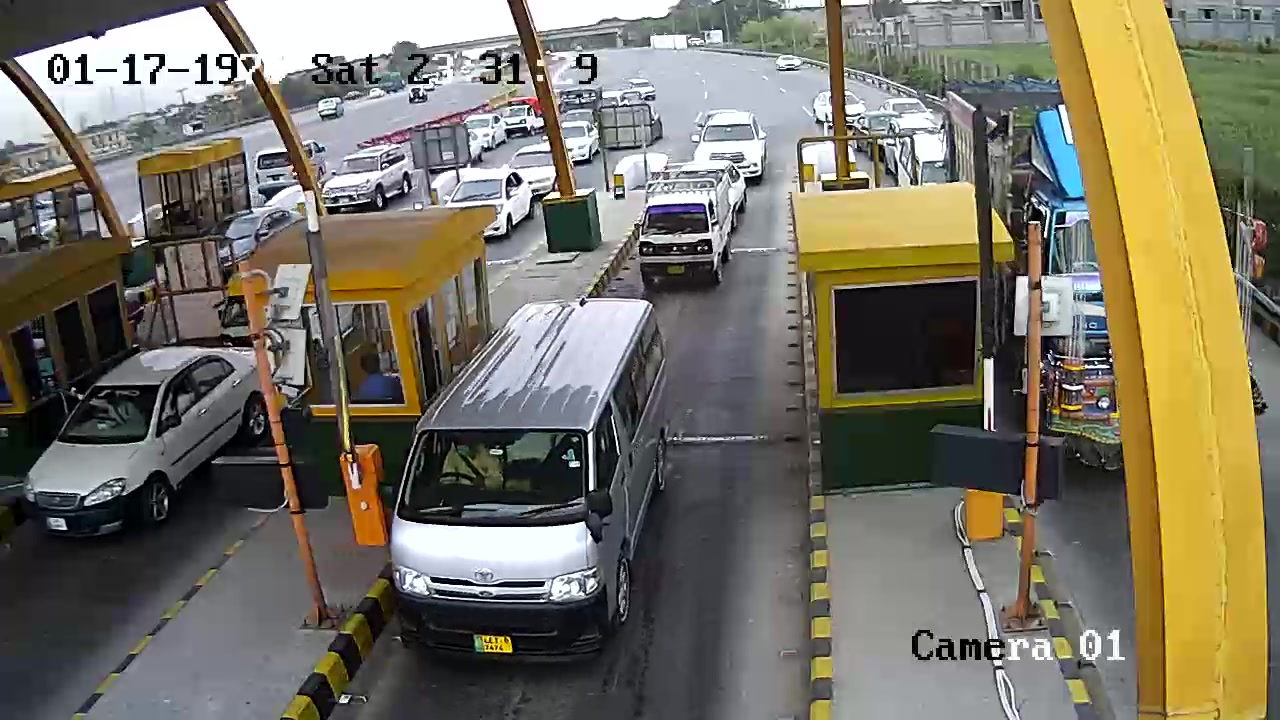F3: (388, 291, 670, 678)
